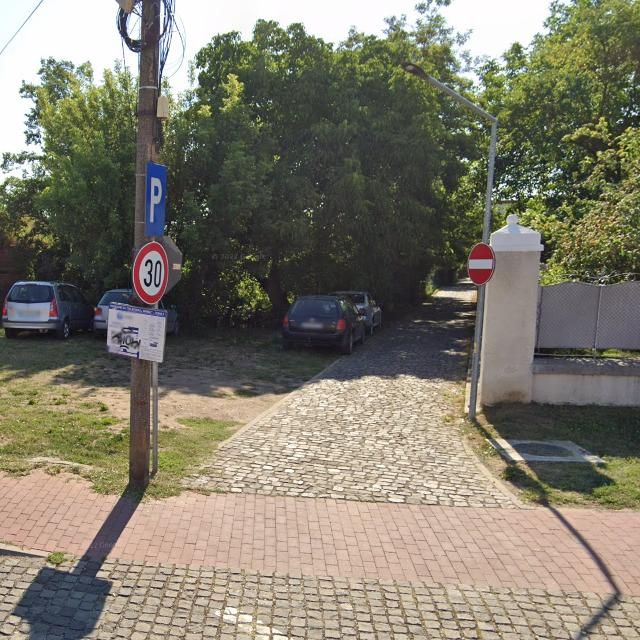forb_ahead: (466, 242, 496, 284)
forb_weight_over_3.5t: (132, 242, 170, 306)
info_parking: (144, 163, 168, 237)
